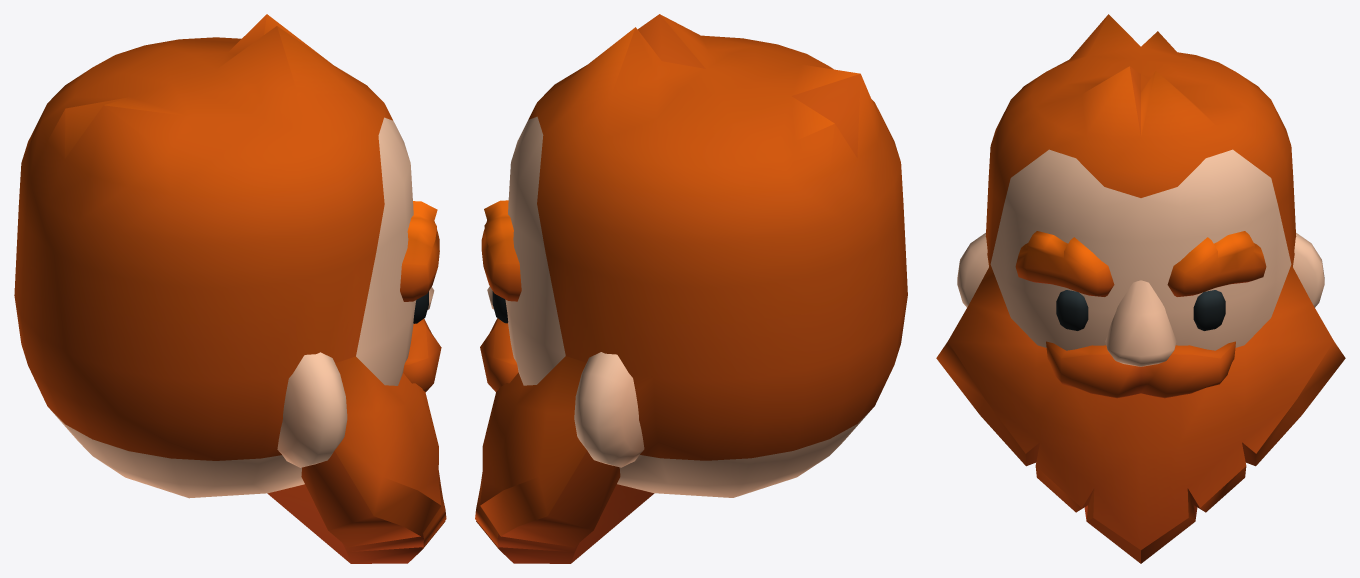
The model's file is head_02.glb.
3 views of the same model, side by side, from view 1: azimuth 30°, elevation 25°; view 2: azimuth 150°, elevation 25°; view 3: azimuth 270°, elevation 25° (orthographic). The views are drawn at different scales.
Visible parts, largest first — view 1: Engineer_Head.001; view 2: Engineer_Head.001; view 3: Engineer_Head.001.
Part boxes in pixels (x1,y1,x2,y2): Engineer_Head.001: [14, 14, 446, 563]; Engineer_Head.001: [475, 14, 907, 563]; Engineer_Head.001: [936, 14, 1345, 563].
Size of the model in its own units: 1.02 by 1.45 by 1.21.
1 material, 1 textured.
